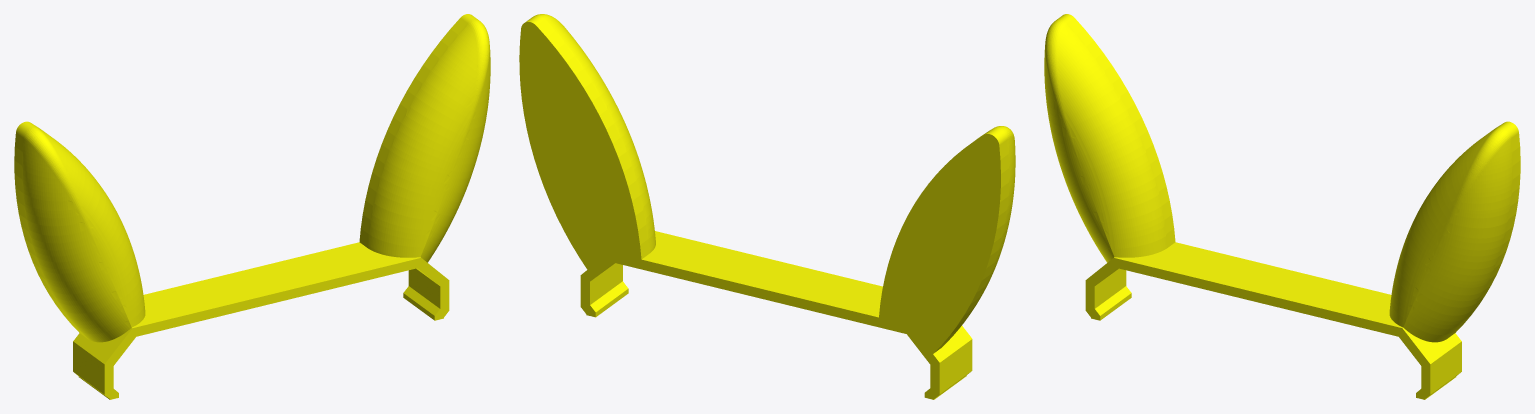
The model's file is Hat_Pika ears.glb.
The picture shows the model from 3 angles, left to right: view 1: azimuth 30°, elevation 25°; view 2: azimuth 150°, elevation 25°; view 3: azimuth 330°, elevation 25°; orthographic projection. The views are drawn at different scales.
Visible parts, largest first — view 1: Node1; view 2: Node1; view 3: Node1.
Boxes of the visible parts, box(x1,y1,x2,y2) form: Node1: box(14, 14, 490, 399); Node1: box(519, 14, 1015, 399); Node1: box(1044, 14, 1520, 399).
Size of the model in its own units: 102 by 56.5 by 12.
